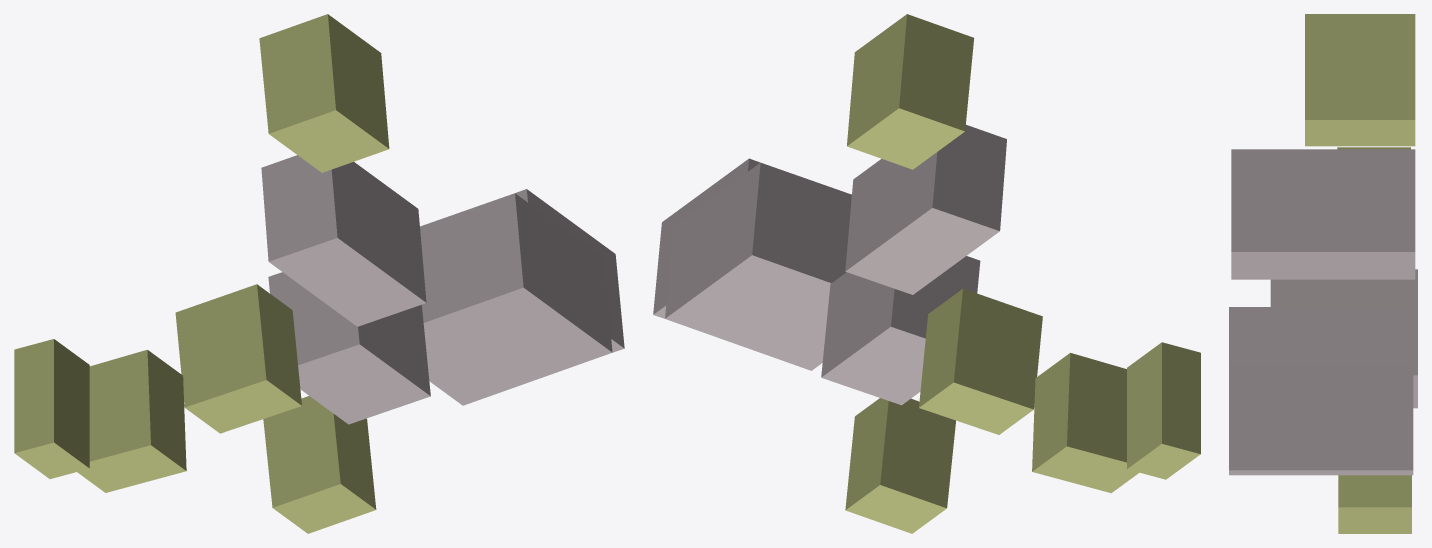
3 renders of one model, left to right at view 1: azimuth 30°, elevation 25°; view 2: azimuth 150°, elevation 25°; view 3: azimuth 270°, elevation 25°, orthographic. The views are drawn at different scales.
Parts seen in each view (by area): view 1: 0_2_1_3_3_0_3_2_1; view 2: 0_2_1_3_3_0_3_2_1; view 3: 0_2_1_3_3_0_3_2_1.
Part boxes in pixels (x1,y1,x2,y2): 0_2_1_3_3_0_3_2_1: [14, 14, 624, 533]; 0_2_1_3_3_0_3_2_1: [653, 14, 1200, 533]; 0_2_1_3_3_0_3_2_1: [1229, 14, 1417, 533].
Size of the model in its own units: 50.86 by 44.55 by 15.38.
